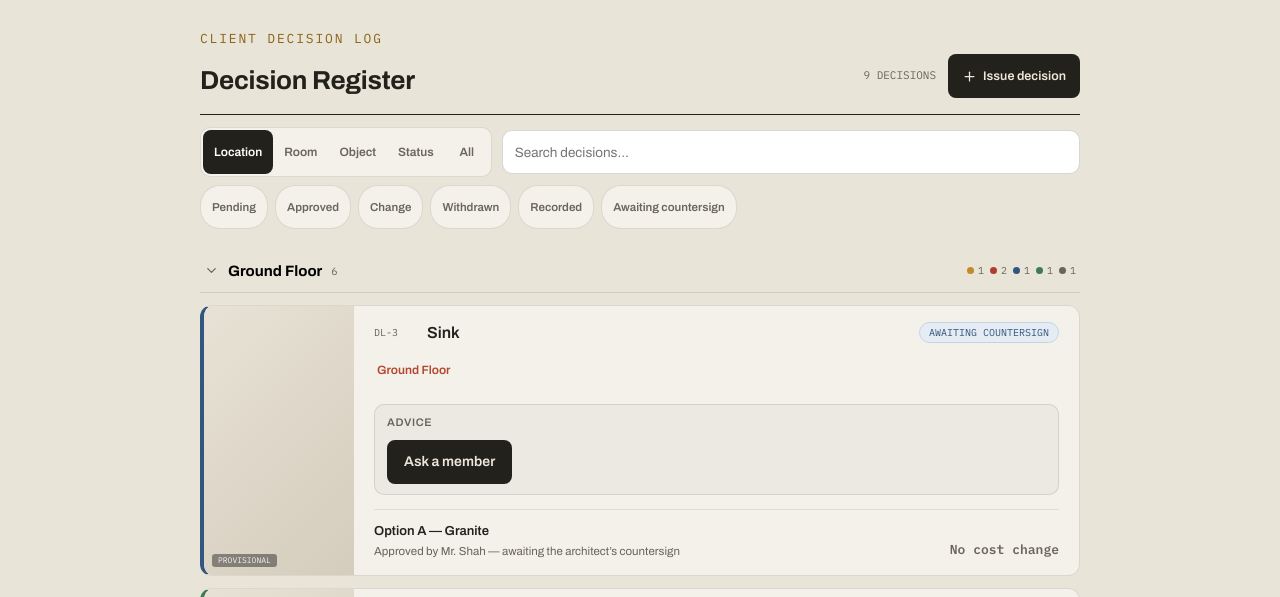
Test: the Decision Log in English is unchanged › keeps its words
expect the element with test id "log-row-DL-3" shows "Approved by Mr. Shah — awaiting the architect’s countersign": met, box [374, 545, 680, 557]
expect the button with test id "filter-awaiting_countersign" reads "Awaiting countersign": met, box [601, 185, 737, 229]
Click the button with test id "groupby-status".
click(416, 152)  # box [387, 130, 445, 174]
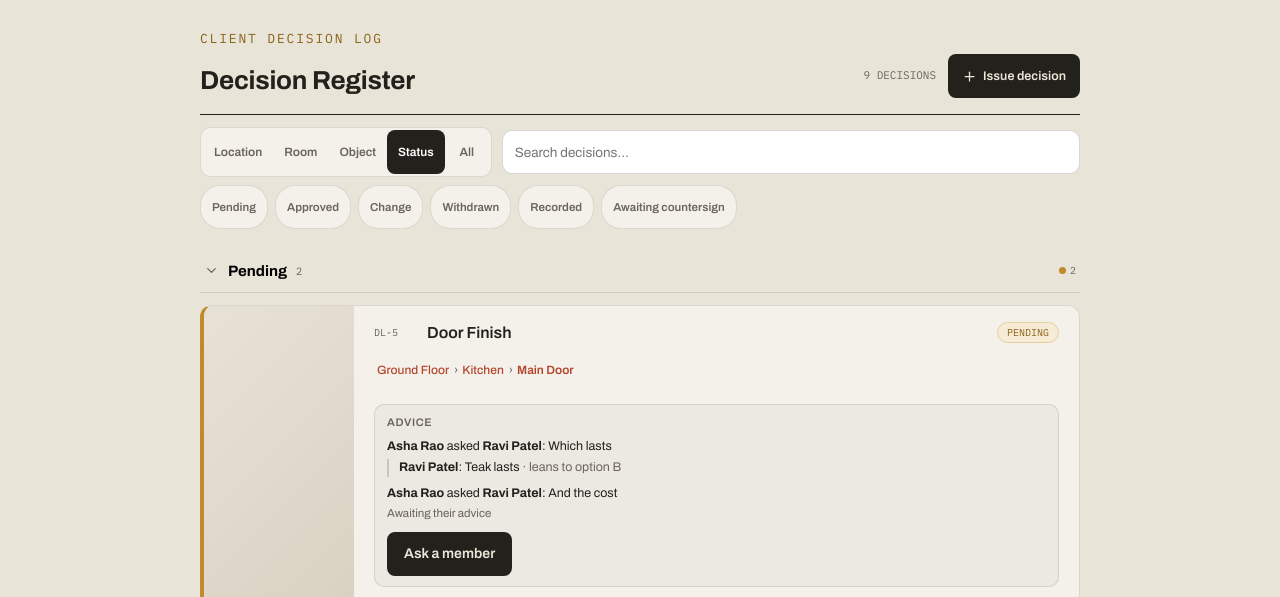
Click the button with test id "groupby-room".
click(301, 152)  # box [273, 130, 328, 174]
(page scrolled)
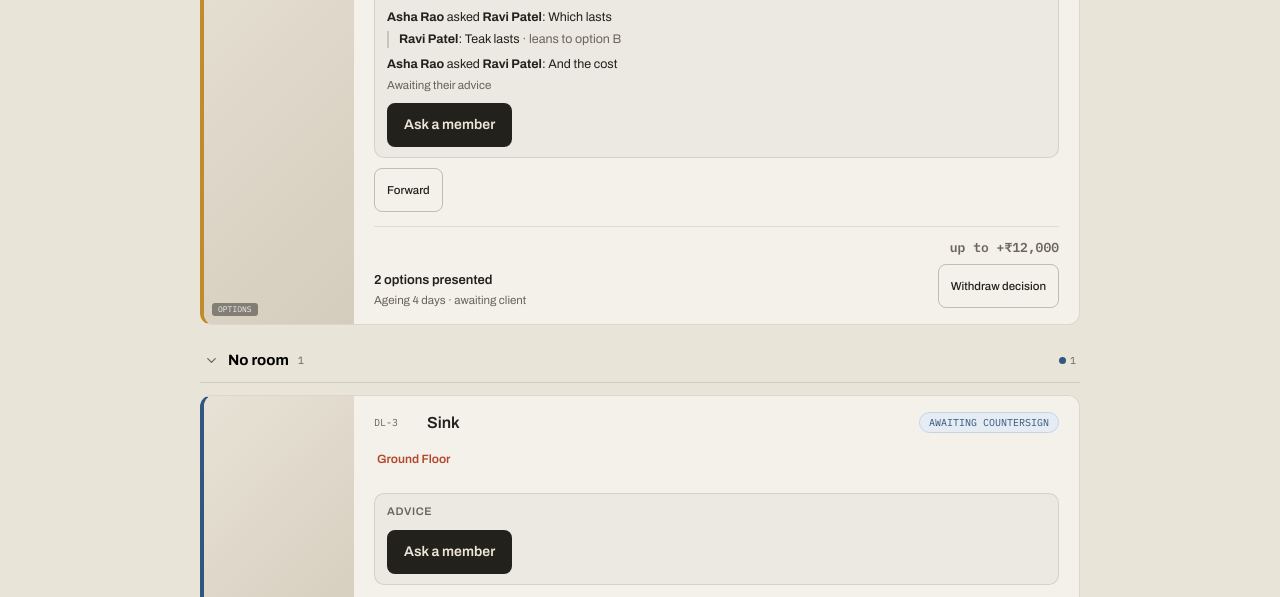
expect the button with test id "group-head-room:~none" shows "No room": met, box [200, 339, 1080, 383]
